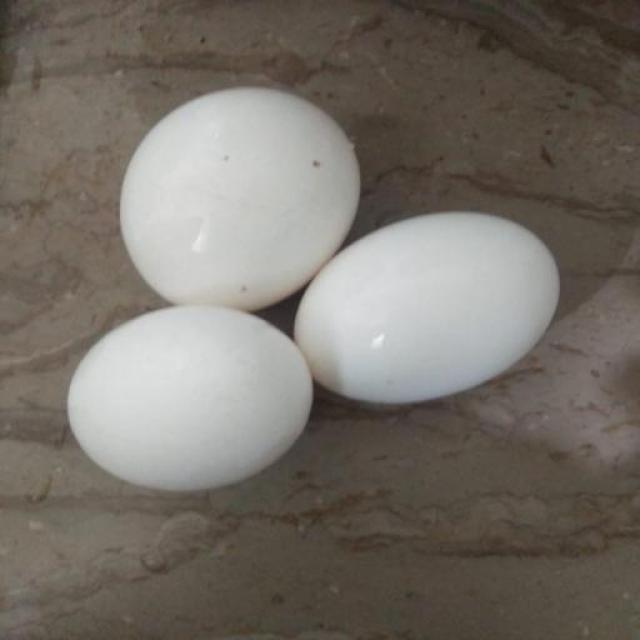telur: (118, 86, 359, 306), (293, 213, 558, 404), (68, 305, 314, 491)
